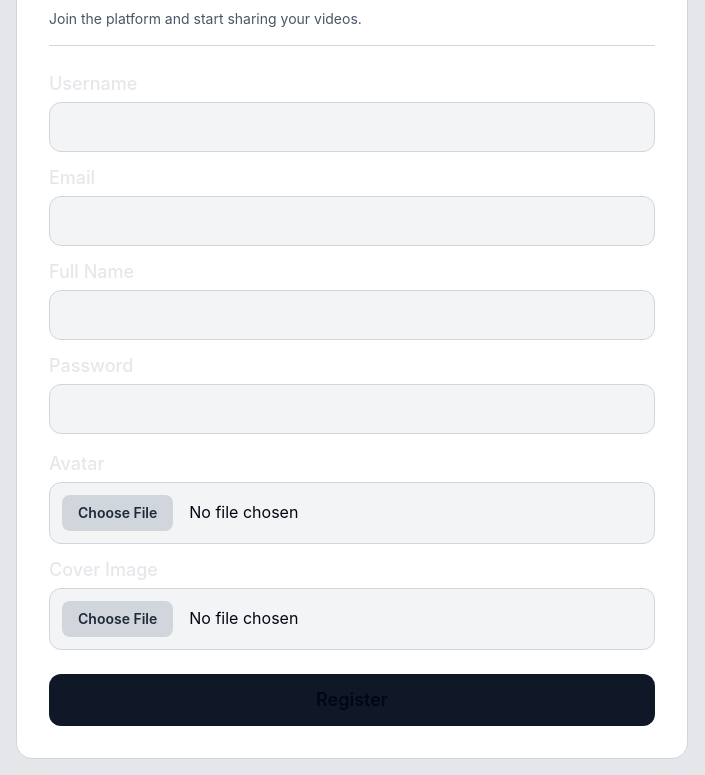
Test case: Register User › should show required field errors when submitting empty form
The image size is (705, 775).
(page scrolled)
Click the button "Register": point(352, 700) [49, 674, 655, 726]
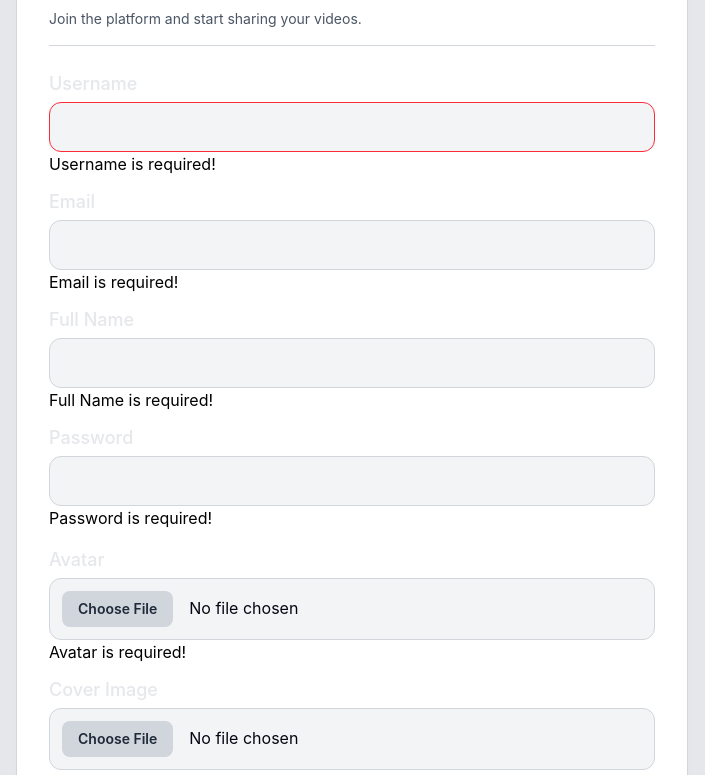
Result: the text "Username is required!" is shown at [49, 154, 216, 174]
Result: the text "Email is required!" is shown at [49, 272, 178, 292]
Result: the text "Full Name is required!" is shown at [49, 390, 213, 410]
